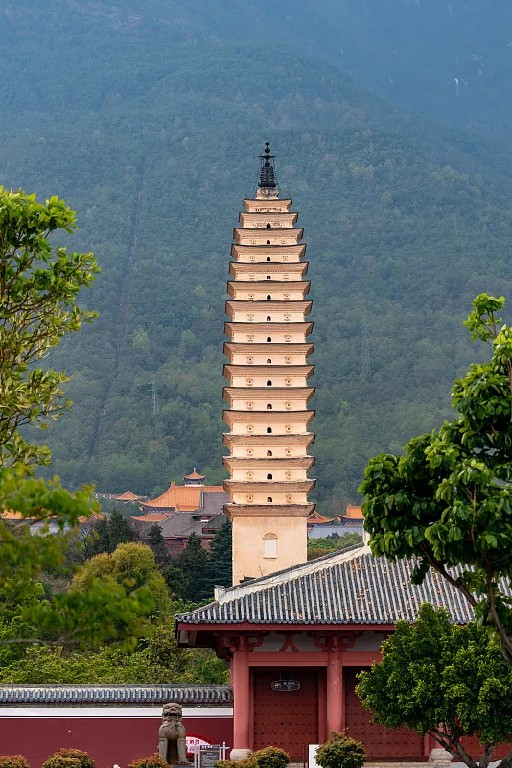ThreePagoda: (222, 141, 316, 584)
